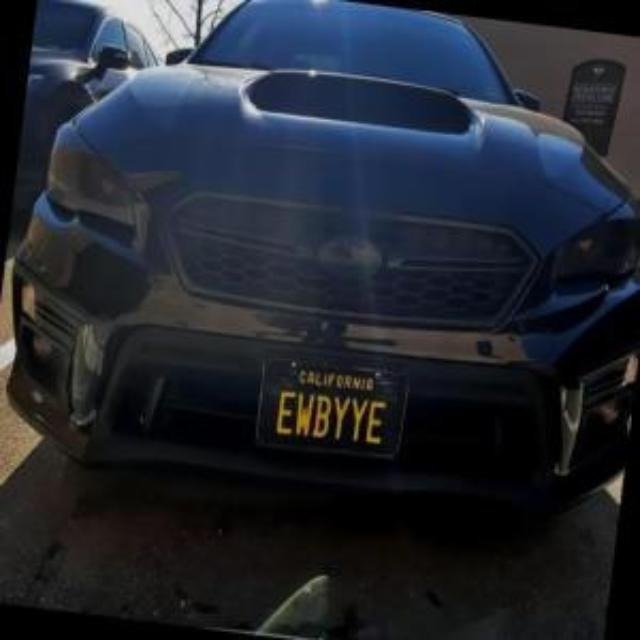License Plate: (253, 351, 409, 461)
